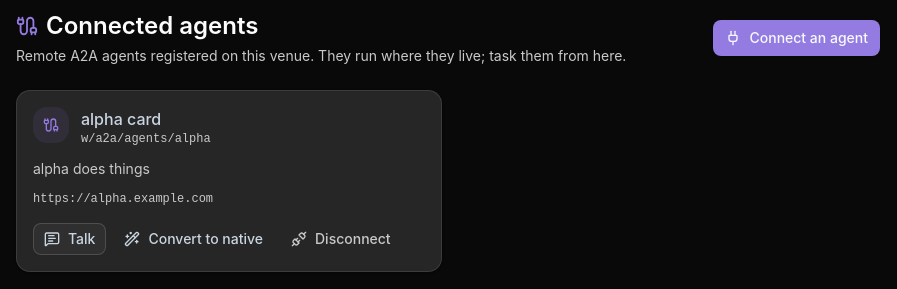
Scenario: ConnectedAgentsList › disconnects an agent by deleting its binding, then re-reads the list
Expected: the list with test id "connected-list" is shown, [16,90,442,272]
Click the button with test id "connected-disconnect-alpha": x=341, y=239 [281,223,401,255]
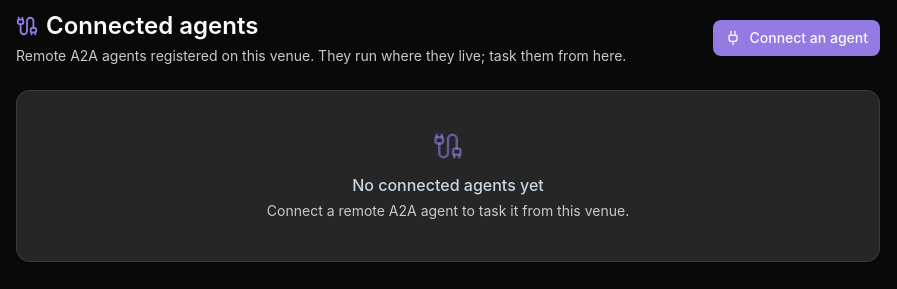
Expected: the element with test id "connected-list-empty" is shown, [16,90,880,262]
